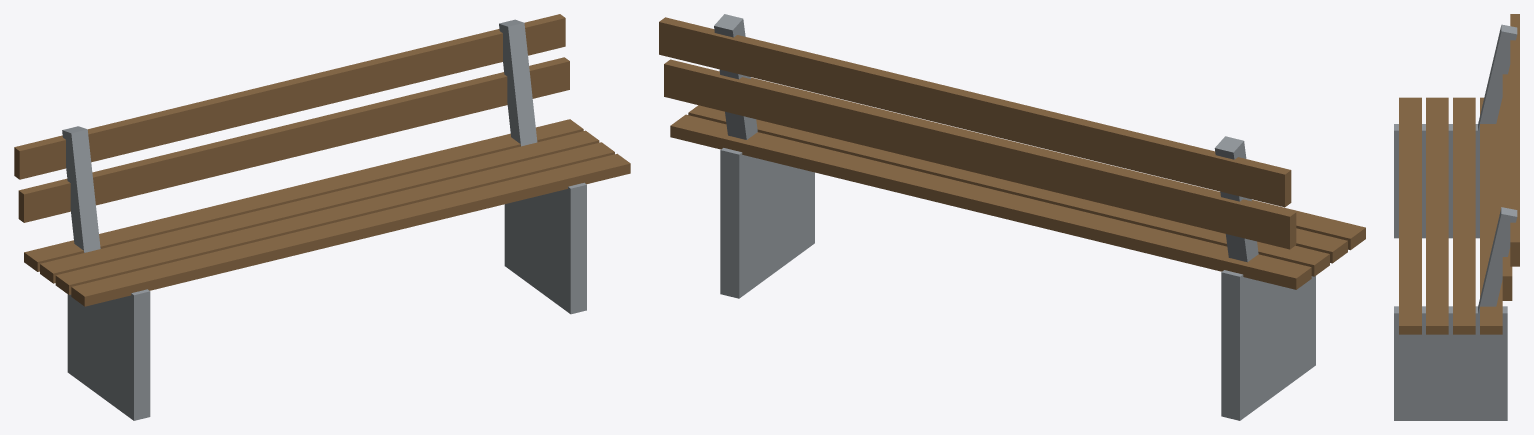
Rendered from prop-bench.glb.
3 views of the same model, side by side, from view 1: azimuth 30°, elevation 25°; view 2: azimuth 150°, elevation 25°; view 3: azimuth 270°, elevation 25° (orthographic). The views are drawn at different scales.
Parts seen in each view (by area): view 1: bench; view 2: bench; view 3: bench.
Boxes of the visible parts, x1,y1,x2,y2 form: bench: (14, 14, 630, 420); bench: (659, 14, 1365, 420); bench: (1394, 14, 1519, 420).
Bounding box in the file's own units: 2 × 0.8463 × 0.4655.
